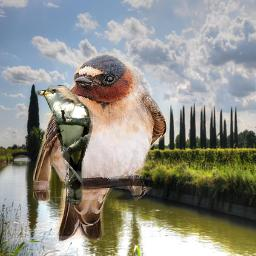Cuckoo: (35, 85, 93, 205)
Swallow: (33, 53, 167, 242)
